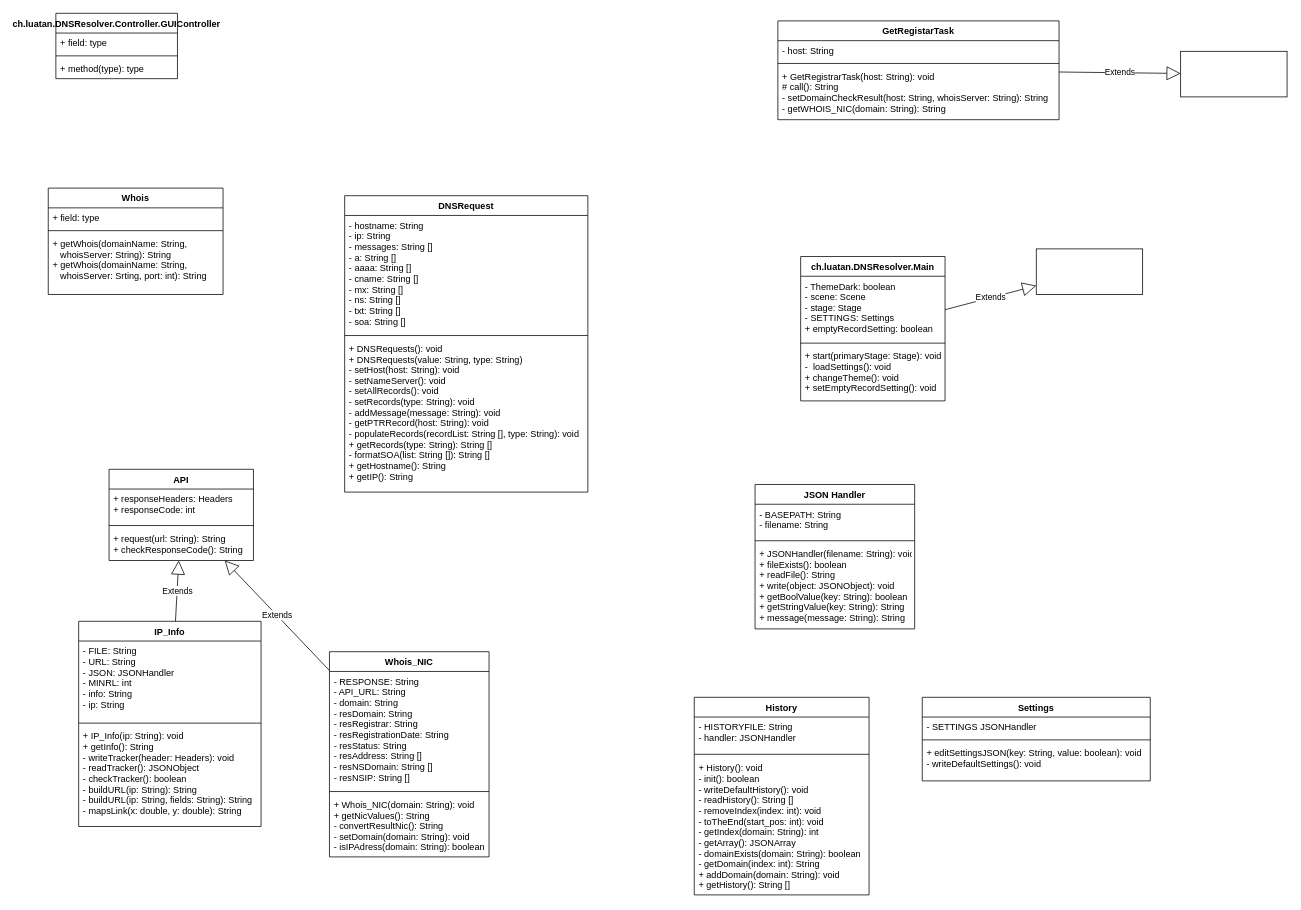
Image size: 1301x910. Some labels were removed from this diagram. Each missing label, with the centre of its shape:
"Application" goes at pixel 1089 271.
"Task" goes at pixel 1233 74.
